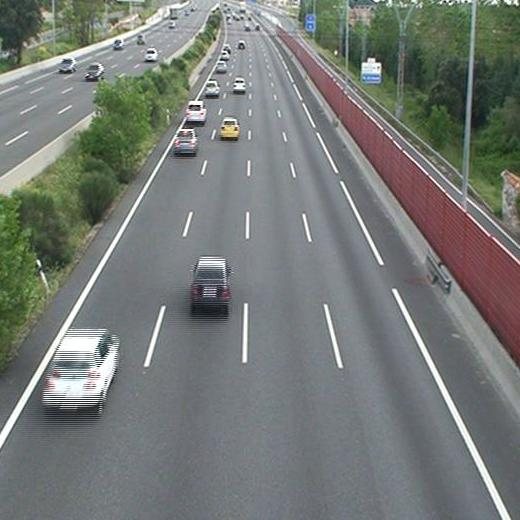car: (43, 331, 118, 407), (190, 258, 229, 306), (174, 130, 197, 155), (186, 101, 206, 123), (221, 119, 240, 138), (204, 82, 219, 95), (233, 78, 246, 91), (215, 61, 227, 72), (220, 50, 229, 61), (237, 42, 246, 50)
